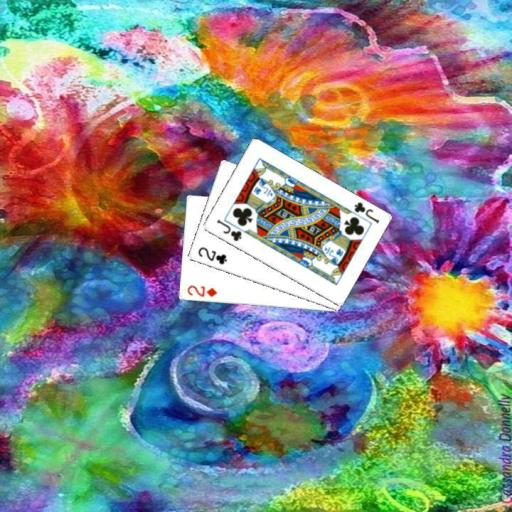2C: (195, 244, 228, 266)
2D: (184, 282, 218, 299)
JC: (214, 216, 244, 243), (351, 199, 381, 226)
